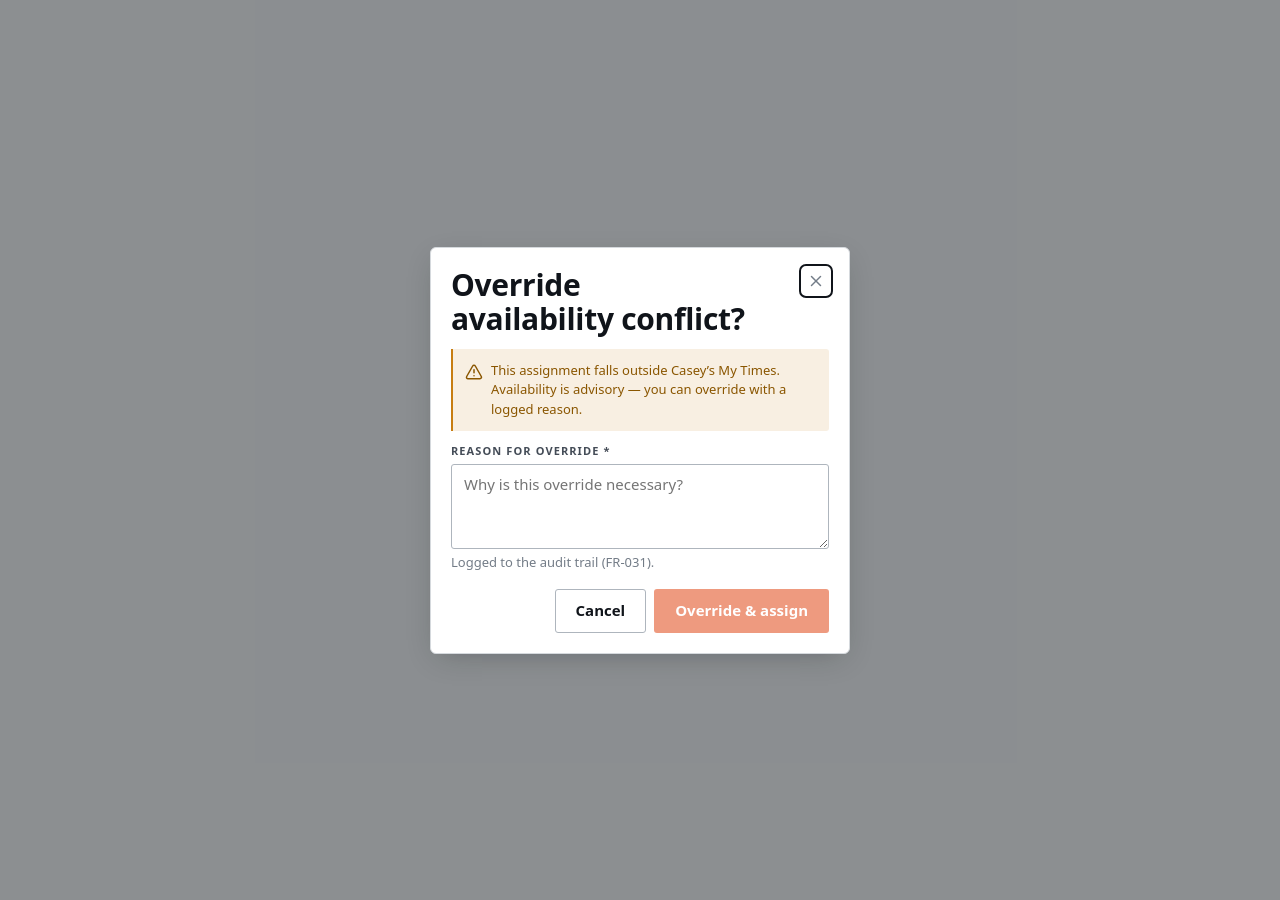
Scenario: ConflictOverrideModal (FR-031, L5) › posts the override with the trimmed reason on confirm
This screenshot has width=1280, height=900.
Type "  Makeup session  " into the text box labelled "Reason for override *" at (640, 506), box 451,464 -> 829,549
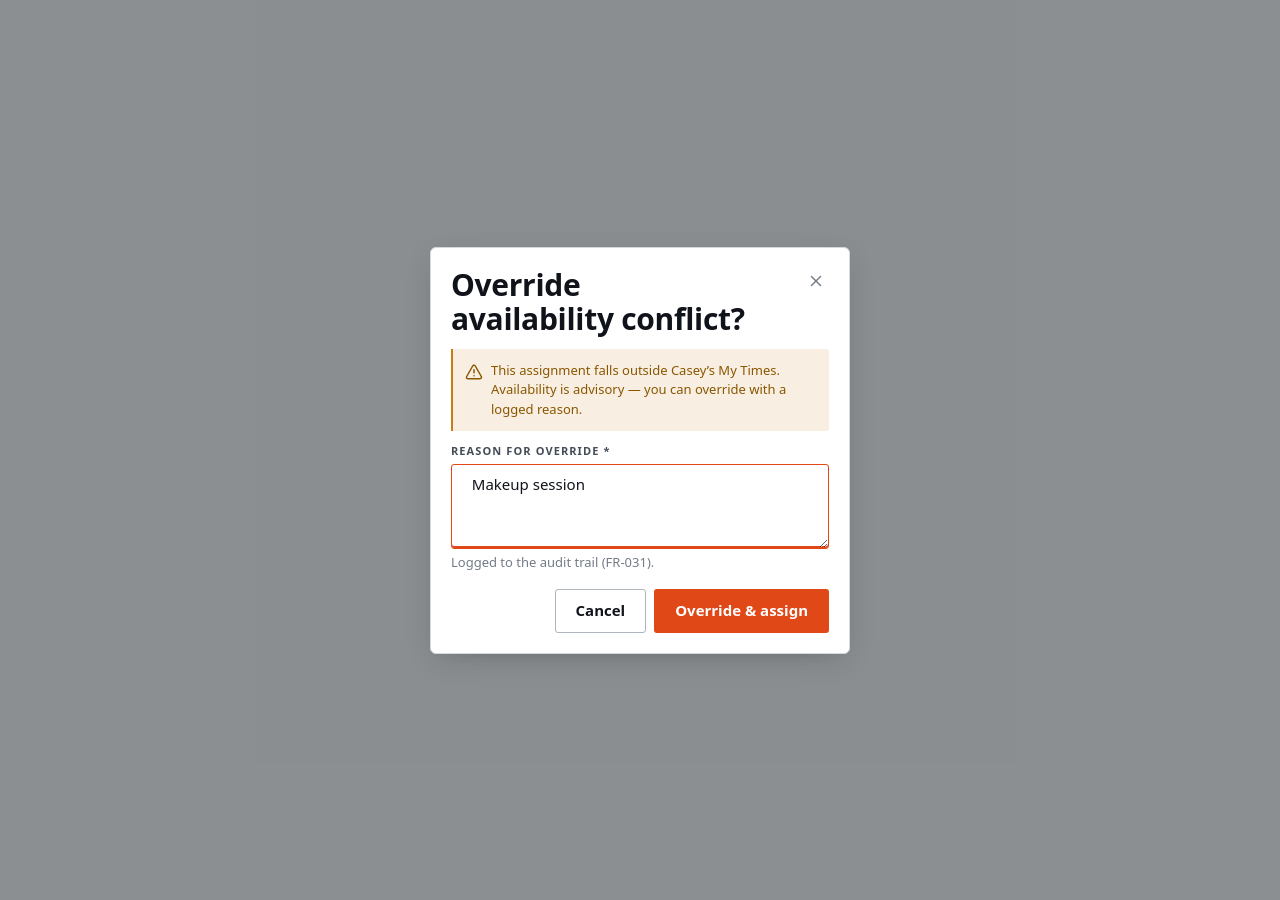
Click the button "Override & assign" at (742, 610), box 654,588 -> 829,632
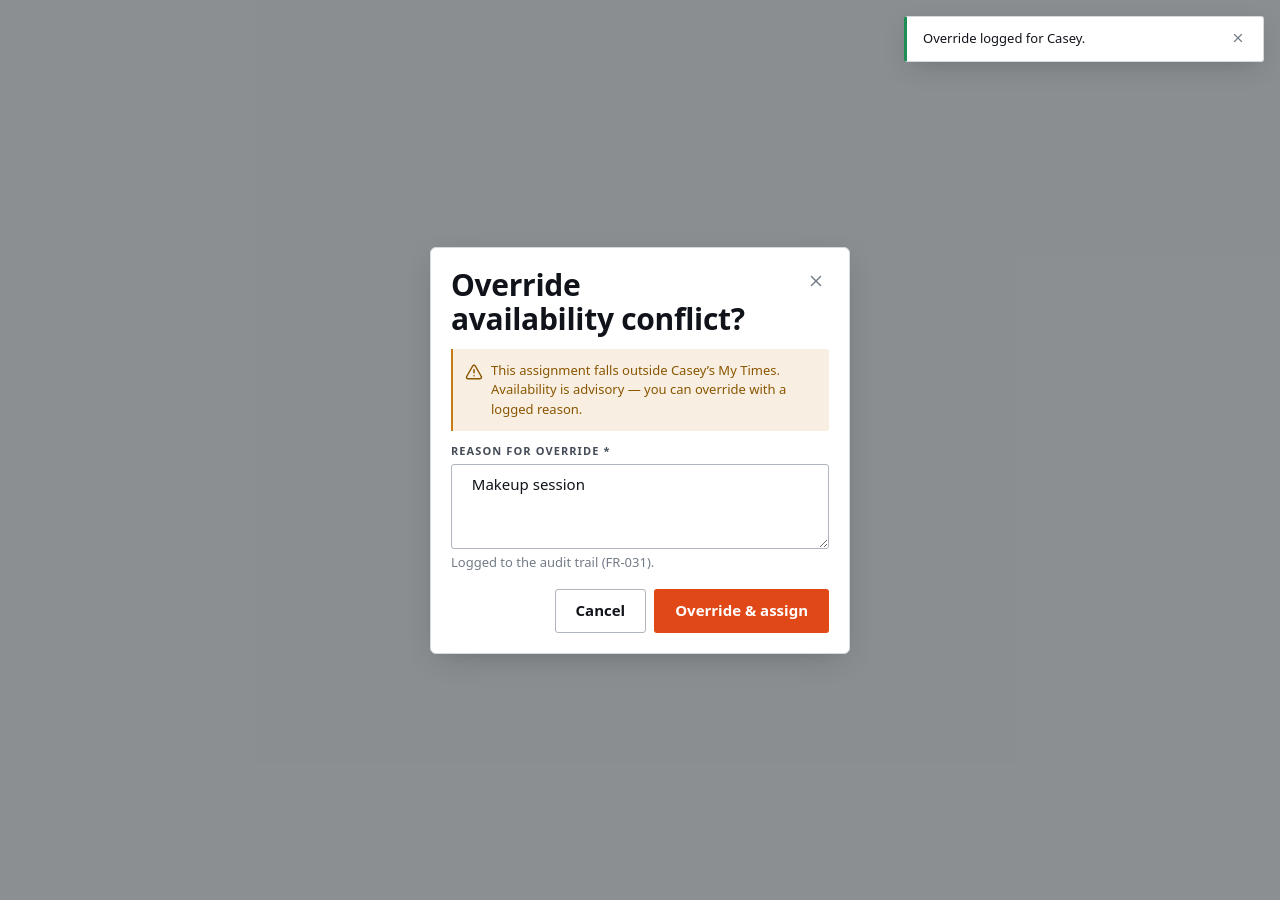
Result: the text "Override logged for Casey." is shown at 923,29 -> 1085,47
